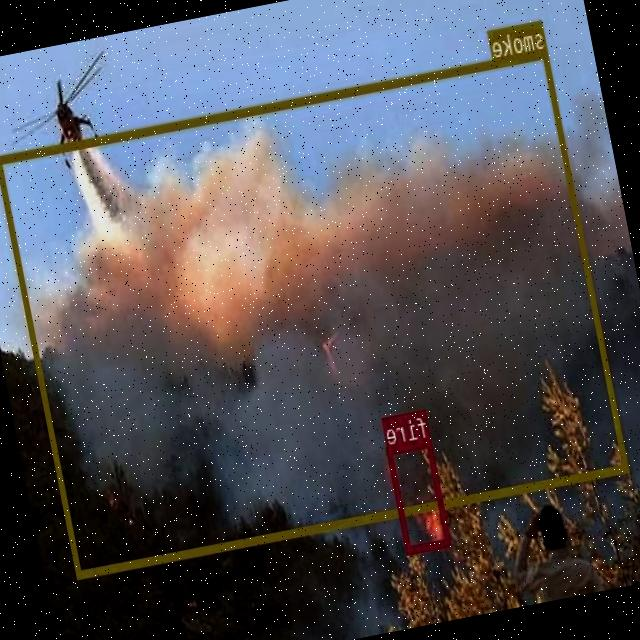fire: (388, 438, 452, 554)
smoke: (0, 47, 631, 577)
